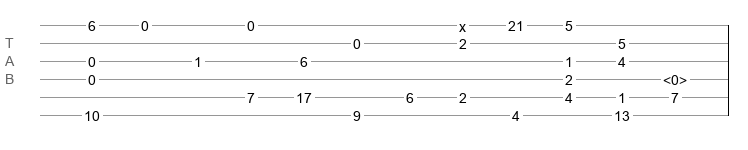0: (88, 54, 96, 64), (88, 72, 96, 82), (141, 18, 149, 28), (247, 18, 255, 28), (353, 36, 361, 46)
1: (194, 54, 202, 64), (565, 54, 573, 64), (618, 90, 626, 100)
10: (84, 108, 100, 118)
13: (614, 108, 630, 118)
17: (296, 90, 312, 100)
2: (459, 90, 467, 100), (459, 36, 467, 46), (565, 72, 573, 82)
21: (508, 18, 524, 28)
4: (512, 108, 520, 118), (565, 90, 573, 100), (618, 54, 626, 64)
5: (565, 18, 573, 28), (618, 36, 626, 46)
6: (88, 18, 96, 28), (300, 54, 308, 64), (406, 90, 414, 100)
7: (247, 90, 255, 100), (671, 90, 679, 100)
9: (353, 108, 361, 118)
harmonic: (663, 72, 687, 82)
x: (459, 19, 466, 27)
